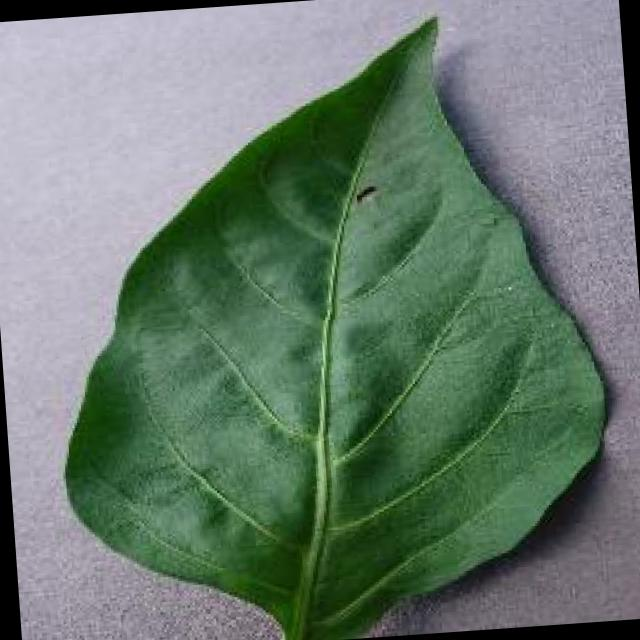Chilli_Healthy: (29, 1, 623, 640)
